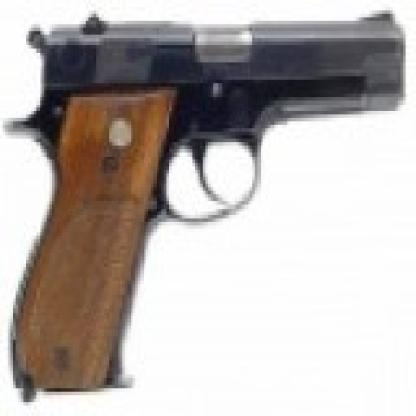handgun: (2, 0, 406, 395)
